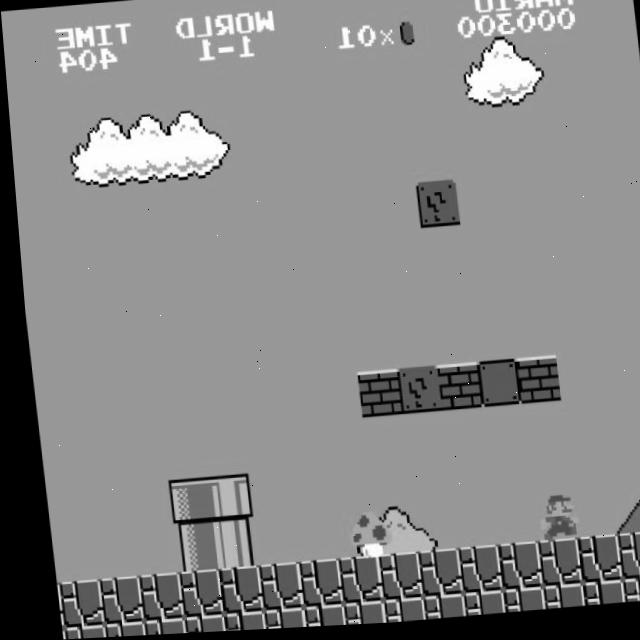1- brick_block: (508, 360, 554, 409), (429, 366, 475, 415), (349, 372, 395, 421)
11- little_mario: (527, 497, 575, 548)
12- mushroom: (338, 511, 386, 563)
13- mystery_block: (389, 369, 435, 418), (410, 184, 456, 232)
14- pipe: (203, 521, 249, 570), (163, 524, 209, 573)
15- pipe_head: (199, 475, 245, 524), (159, 479, 205, 527)
17- undestructible_block: (527, 543, 573, 592), (487, 546, 533, 595), (447, 549, 493, 598), (367, 555, 413, 604), (327, 558, 373, 607), (287, 561, 333, 610), (207, 567, 253, 616), (167, 570, 213, 619), (128, 573, 174, 622), (88, 576, 134, 625), (48, 579, 94, 628), (567, 540, 613, 588), (407, 552, 453, 600), (247, 564, 293, 612), (606, 537, 640, 585), (571, 585, 615, 611), (531, 588, 575, 614), (491, 591, 535, 617), (451, 594, 495, 620), (411, 597, 455, 623), (372, 600, 415, 626), (332, 603, 375, 628), (292, 606, 335, 630), (252, 609, 295, 631), (212, 612, 255, 633), (172, 615, 215, 635), (611, 582, 640, 608), (132, 619, 175, 636), (92, 621, 135, 638), (52, 624, 95, 640), (46, 581, 54, 628), (50, 627, 55, 640)
3- empty_block: (469, 363, 515, 412)
